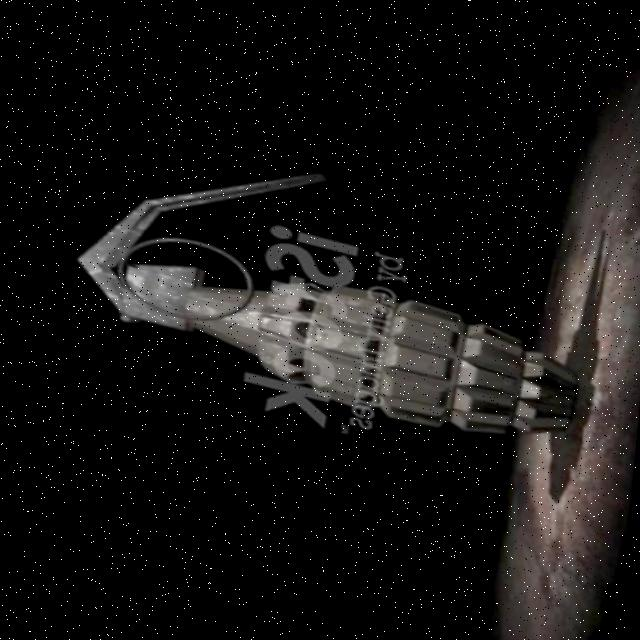grenade: (58, 119, 606, 459)
